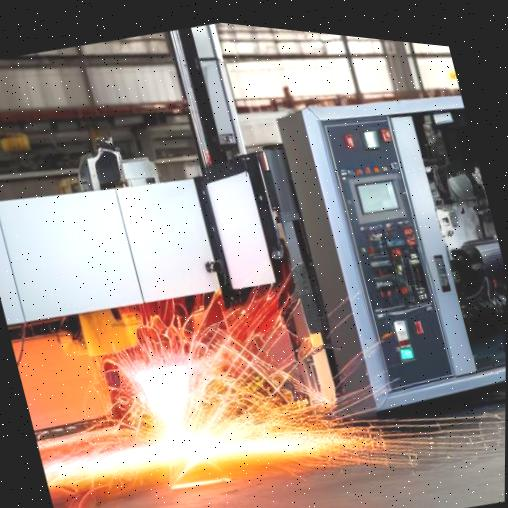fire: (49, 270, 382, 508)
